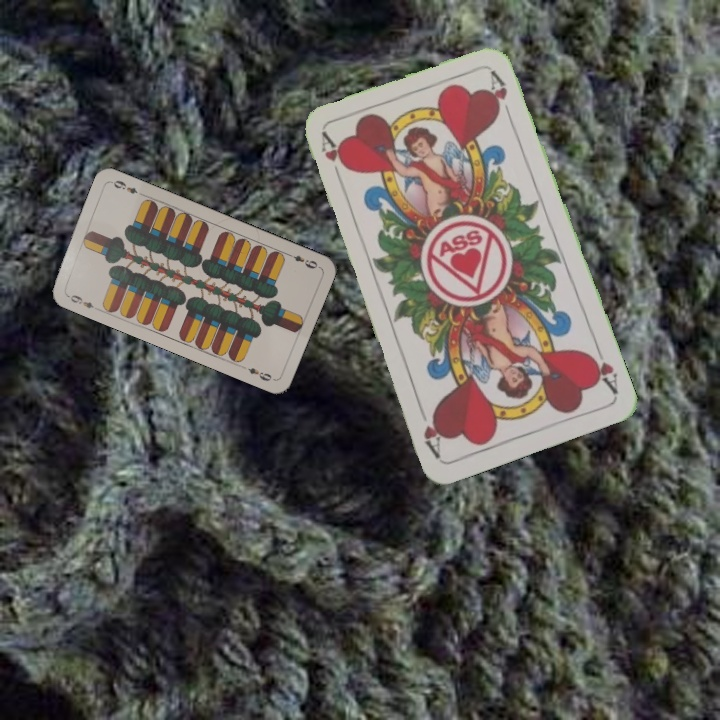E9: (62, 290, 101, 312), (283, 249, 320, 271)
HA: (584, 340, 621, 397), (317, 129, 347, 188)
